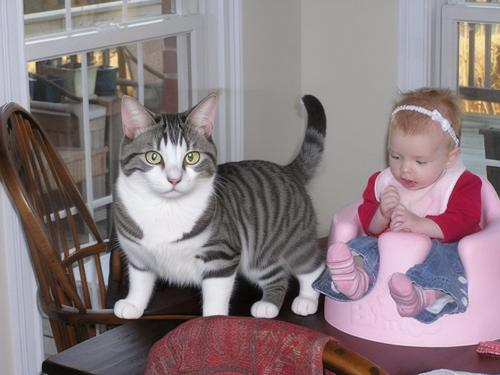cat: (111, 89, 326, 319)
chair: (1, 102, 172, 346), (151, 314, 378, 375)
diningtable: (40, 238, 500, 375)
person: (326, 86, 479, 322)
person/foot: (326, 240, 363, 300), (388, 273, 419, 318)
person/hand: (389, 203, 421, 232), (381, 186, 398, 216)
person/head: (387, 87, 464, 190)
